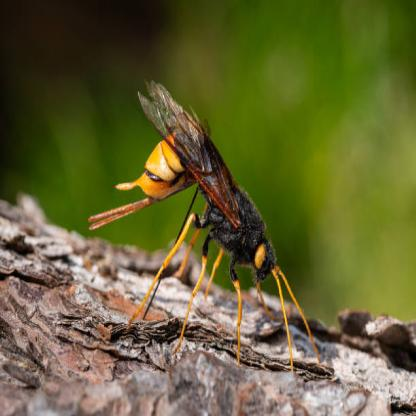sawfly: (80, 77, 326, 370)
